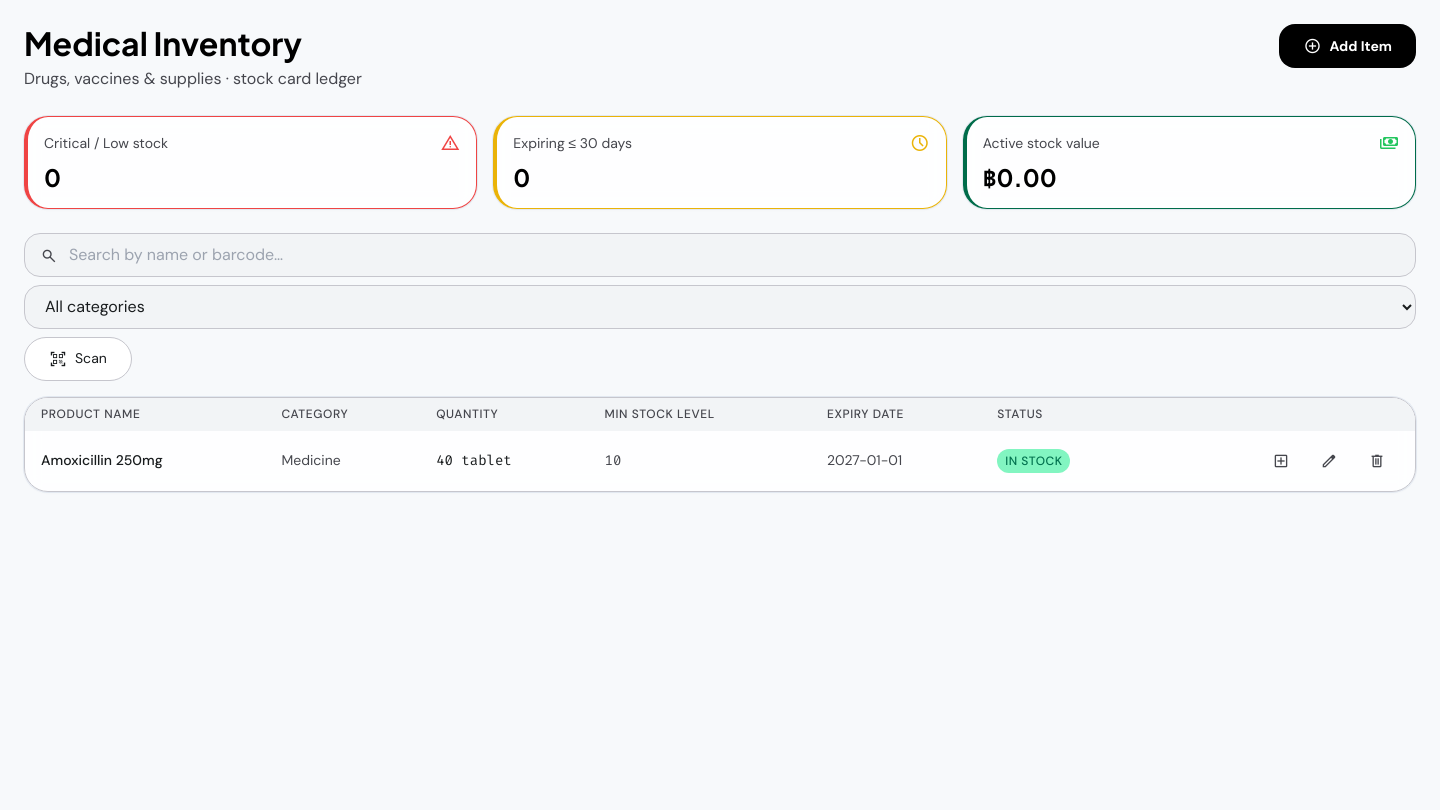
Test case: ClinicInventory — clinic_staff (full access) › Stock In: backdrop click closes without submitting
Step 1. Click the button titled "Stock in" → {"x": 1281, "y": 461}, box [1259,439,1303,483]
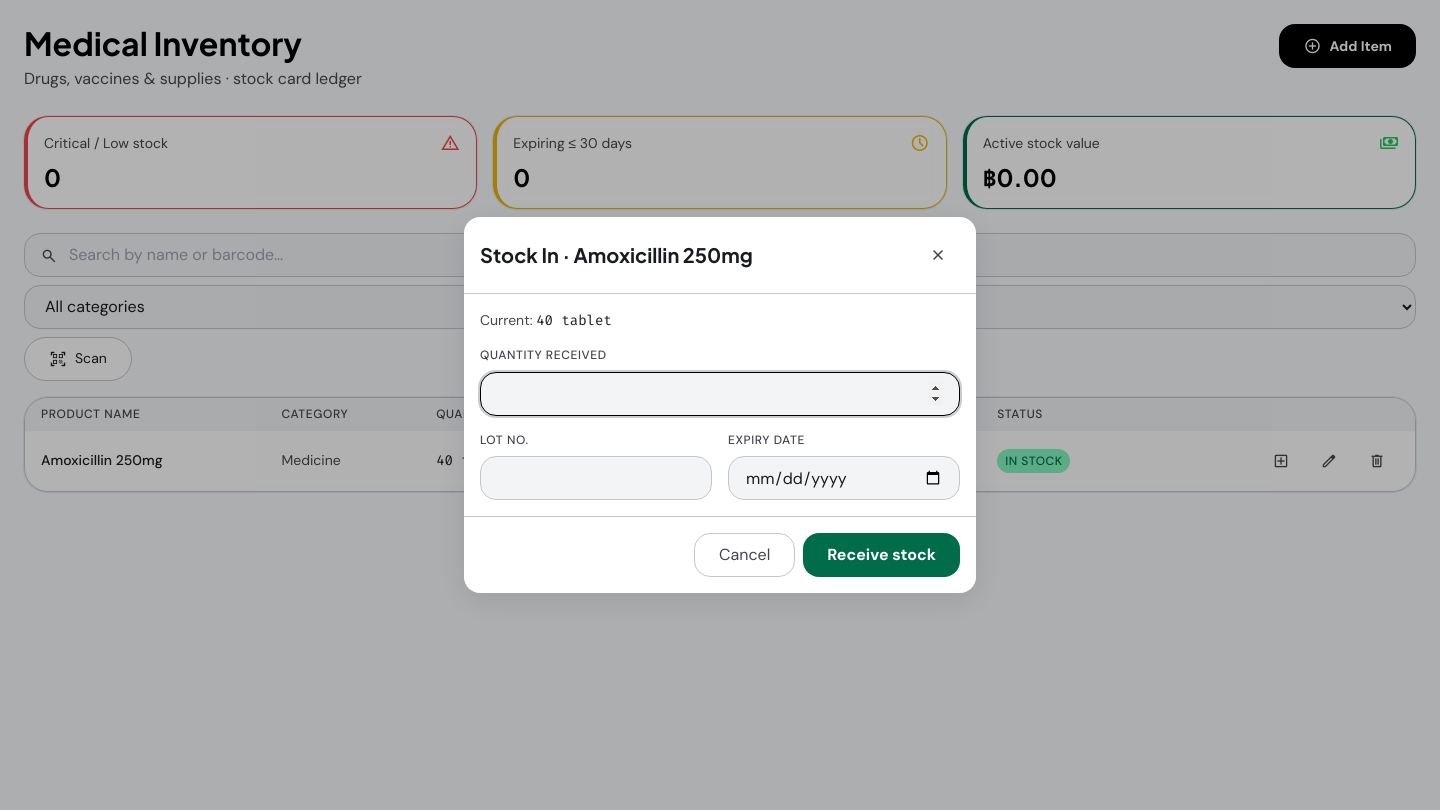
Step 2. Click the element showing "Stock In · Amoxicillin 250mg Cancel Receive stock" → {"x": 86, "y": 405}, box [0,0,1439,809]
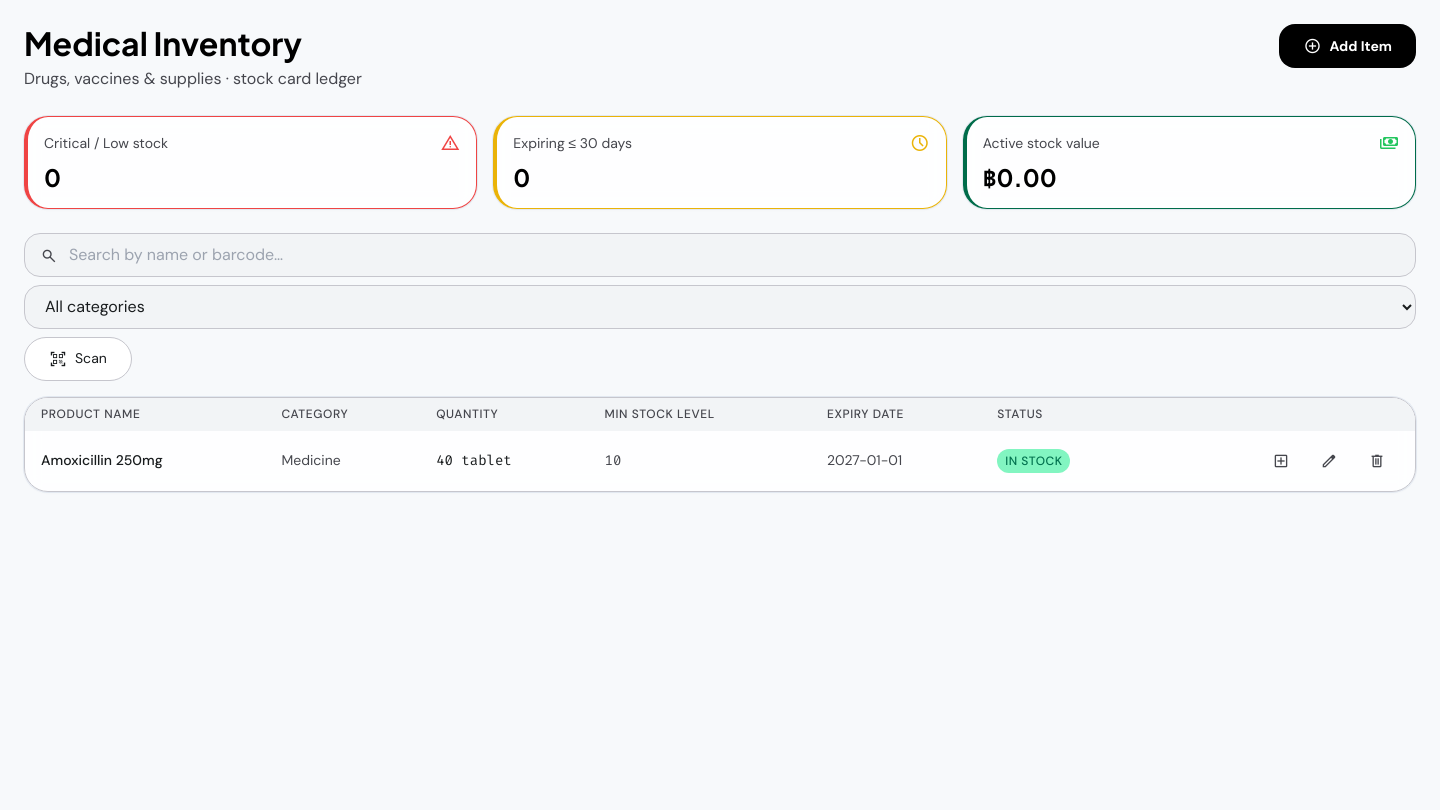
Expected: the dialog is gone
